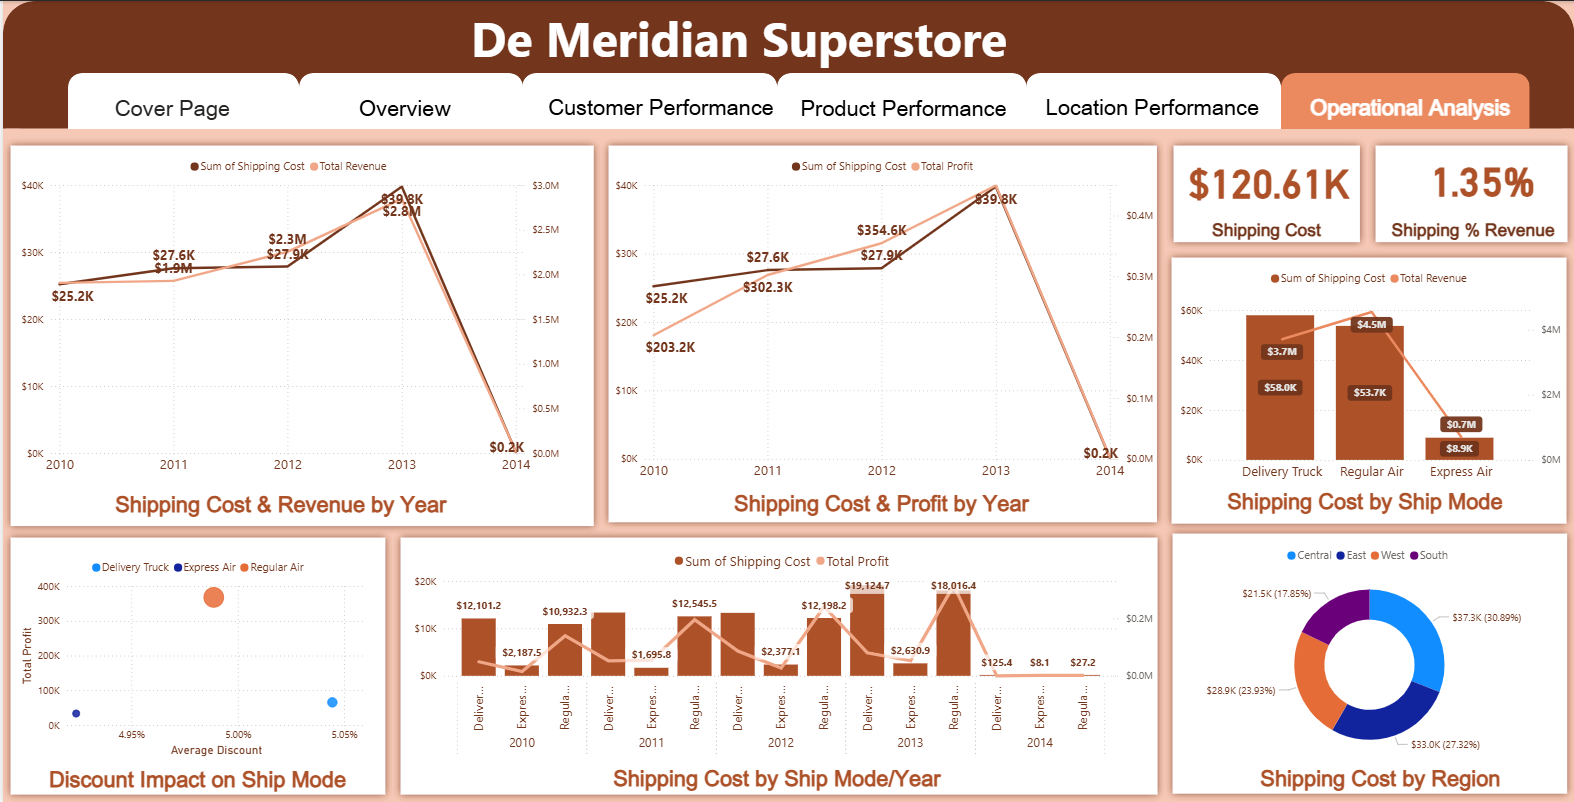

Layout of this report page (visuals, bound fields, positions):
{"tool":"powerbi","page":{"name":"Operational Analysis","canvas":[1920,980],"ordinal":5},"visuals":[{"type":"shape","box":[476.5,646.3,943.5,332.6],"z":0,"group":"g1"},{"type":"shape","box":[0,0,1920,156.1],"z":1000,"group":"g1"},{"type":"shape","box":[79,87.8,282.5,68.8],"z":2000,"group":"g1"},{"type":"shape","box":[361.5,87.8,273.8,68.8],"z":3000,"group":"g1"},{"type":"shape","box":[634.2,88,312,68.5],"z":4000,"group":"g1"},{"type":"shape","box":[946,87.8,305,68.8],"z":5000,"group":"g1"},{"type":"shape","box":[1250,88,311.8,68.5],"z":6000,"group":"g1"},{"type":"shape","box":[1561.8,88,304,68.5],"z":7000,"group":"g1"},{"type":"shape","box":[0,167.5,731.2,483.5],"z":9000,"group":"g1"},{"type":"shape","box":[731.2,167.5,688.7,478.8],"z":10000,"group":"g1"},{"type":"shape","box":[1418.9,304,501.1,343.7],"z":11000,"group":"g1"},{"type":"shape","box":[1419.3,641.7,500.7,336.4],"z":12000,"group":"g1"},{"type":"shape","box":[0,646.3,476.5,332.6],"z":13000,"group":"g1"},{"type":"textbox","box":[566.7,0,684.4,89.3],"z":14000,"group":"g1"},{"type":"textbox","box":[107.7,107.5,198.8,48.8],"z":15000,"group":"g1"},{"type":"textbox","box":[406.4,108.1,167.5,47.5],"z":16000,"group":"g1"},{"type":"textbox","box":[653.1,106.2,303,51.1],"z":17000,"group":"g1"},{"type":"textbox","box":[965.2,107.5,270,48.8],"z":18000,"group":"g1"},{"type":"textbox","box":[1264.3,106.2,279.3,51.1],"z":19000,"group":"g1"},{"type":"textbox","box":[1570.8,106.6,296.3,50.5],"z":20000,"group":"g1"},{"type":"donutChart","fields":{"Category":["Locations.Region"],"Y":["Sum(Shipping Event.Shipping Cost)"]},"box":[1433.2,657.8,472.6,278.5],"z":21000,"group":"g1"},{"type":"textbox","box":[1498.2,926.4,370,47.9],"z":22000,"group":"g1"},{"type":"textbox","box":[49.5,927,375,51.9],"z":23000,"group":"g1"},{"type":"textbox","box":[728.4,926.4,434.7,53],"z":24000,"group":"g1"},{"type":"textbox","box":[1476.5,588.1,376.3,51.8],"z":25000,"group":"g1"},{"type":"scatterChart","fields":{"Y":["Measures (2).Total Profit"],"Size":["Measures (2).Total Profit"],"X":["Measures (2).Average Discount"],"Category":["Ship Mode.Ship Mode"],"Series":["Ship Mode.Ship Mode"]},"box":[16,672,448,256],"z":26000,"group":"g1"},{"type":"shape","box":[1667.5,167.8,253.1,136.6],"z":29000,"group":"g1"},{"type":"textbox","box":[1682.2,258.8,227.6,40.2],"z":30000,"group":"g1"},{"type":"card","fields":{"Values":["Measures (2).Shipping % Revenue"]},"box":[1735.9,179.2,142.9,71.4],"z":31000,"group":"g1"},{"type":"textbox","box":[124.2,591.3,429.5,54.3],"z":32000,"group":"g1"},{"type":"textbox","box":[887.5,590,372.6,51.8],"z":33000,"group":"g1"},{"type":"shape","box":[1421.1,167.8,246.4,136.6],"z":34000,"group":"g1"},{"type":"textbox","box":[1468,258.8,152.6,40.2],"z":35000,"group":"g1"},{"type":"card","fields":{"Values":["Sum(Shipping Event.Shipping Cost)"]},"box":[1439.9,182.5,214.2,71],"z":36000,"group":"g1"},{"type":"lineClusteredColumnComboChart","fields":{"Category":["Calendar.Date.Variation.Date Hierarchy.Year","Ship Mode.Ship Mode"],"Y2":["Measures (2).Total Profit"],"Y":["Sum(Shipping Event.Shipping Cost)"]},"box":[497.7,662.8,912.8,268.9],"z":37000,"group":"g1"},{"type":"lineChart","fields":{"Y2":["Measures (2).Total Revenue"],"Y":["Sum(Shipping Event.Shipping Cost)"],"Category":["Calendar.Date.Variation.Date Hierarchy.Year"]},"box":[16.5,181.6,667.5,405.7],"z":38000,"group":"g1"},{"type":"lineChart","fields":{"Y2":["Measures (2).Total Profit"],"Y":["Sum(Shipping Event.Shipping Cost)"],"Category":["Calendar.Date.Variation.Date Hierarchy.Year"]},"box":[743,181.6,667.5,412.8],"z":39000,"group":"g1"},{"type":"lineClusteredColumnComboChart","fields":{"Category":["Ship Mode.Ship Mode"],"Y":["Sum(Shipping Event.Shipping Cost)"],"Y2":["Measures (2).Total Revenue"]},"box":[1433.2,319.1,475.3,277.2],"z":40000,"group":"g1"},{"type":"actionButton","box":[81.4,90,278.6,67.1],"z":41000,"group":"g1"},{"type":"actionButton","box":[362.9,90,268.6,67.1],"z":42000,"group":"g1"},{"type":"actionButton","box":[635.7,91.4,305.7,67.1],"z":43000,"group":"g1"},{"type":"actionButton","box":[947.1,91.4,305.7,67.1],"z":44000,"group":"g1"},{"type":"actionButton","box":[1255.7,91.4,305.7,67.1],"z":45000,"group":"g1"},{"type":"actionButton","box":[1561.4,91.4,305.7,67.1],"z":46000,"group":"g1"},{"type":"group","id":"g1","title":"Group 1","box":[0,0,1920.5,979.4],"z":46001}]}

Visuals, with their boxes in screenshot pixels (x1, y1, x2, y2), scaled from the page's 1920x980 canvas onto the 1574x802 screenshot:
shape: rect(391, 529, 1164, 801)
shape: rect(0, 0, 1573, 128)
shape: rect(65, 72, 296, 128)
shape: rect(296, 72, 521, 128)
shape: rect(520, 72, 776, 128)
shape: rect(776, 72, 1026, 128)
shape: rect(1025, 72, 1280, 128)
shape: rect(1280, 72, 1530, 128)
shape: rect(0, 137, 599, 533)
shape: rect(599, 137, 1164, 529)
shape: rect(1163, 249, 1573, 530)
shape: rect(1164, 525, 1573, 800)
shape: rect(0, 529, 391, 801)
textbox: rect(465, 0, 1026, 73)
textbox: rect(88, 88, 251, 128)
textbox: rect(333, 88, 470, 127)
textbox: rect(535, 87, 784, 129)
textbox: rect(791, 88, 1013, 128)
textbox: rect(1036, 87, 1265, 129)
textbox: rect(1288, 87, 1531, 129)
donutChart - Locations.Region x Sum(Shipping Event.Shipping Cost): rect(1175, 538, 1562, 766)
textbox: rect(1228, 758, 1532, 797)
textbox: rect(41, 759, 348, 801)
textbox: rect(597, 758, 953, 801)
textbox: rect(1210, 481, 1519, 524)
scatterChart - Measures (2).Total Profit x Measures (2).Total Profit: rect(13, 550, 380, 759)
shape: rect(1367, 137, 1573, 249)
textbox: rect(1379, 212, 1566, 245)
card - Measures (2).Shipping % Revenue: rect(1423, 147, 1540, 205)
textbox: rect(102, 484, 454, 528)
textbox: rect(728, 483, 1033, 525)
shape: rect(1165, 137, 1367, 249)
textbox: rect(1203, 212, 1329, 245)
card - Sum(Shipping Event.Shipping Cost): rect(1180, 149, 1356, 207)
lineClusteredColumnComboChart - Calendar.Date.Variation.Date Hierarchy.Year x Ship Mode.Ship Mode: rect(408, 542, 1156, 762)
lineChart - Measures (2).Total Revenue x Sum(Shipping Event.Shipping Cost): rect(14, 149, 561, 481)
lineChart - Measures (2).Total Profit x Sum(Shipping Event.Shipping Cost): rect(609, 149, 1156, 486)
lineClusteredColumnComboChart - Ship Mode.Ship Mode x Sum(Shipping Event.Shipping Cost): rect(1175, 261, 1565, 488)
actionButton: rect(67, 74, 295, 129)
actionButton: rect(298, 74, 518, 129)
actionButton: rect(521, 75, 772, 130)
actionButton: rect(776, 75, 1027, 130)
actionButton: rect(1029, 75, 1280, 130)
actionButton: rect(1280, 75, 1531, 130)
"Group 1" group: rect(0, 0, 1573, 801)
